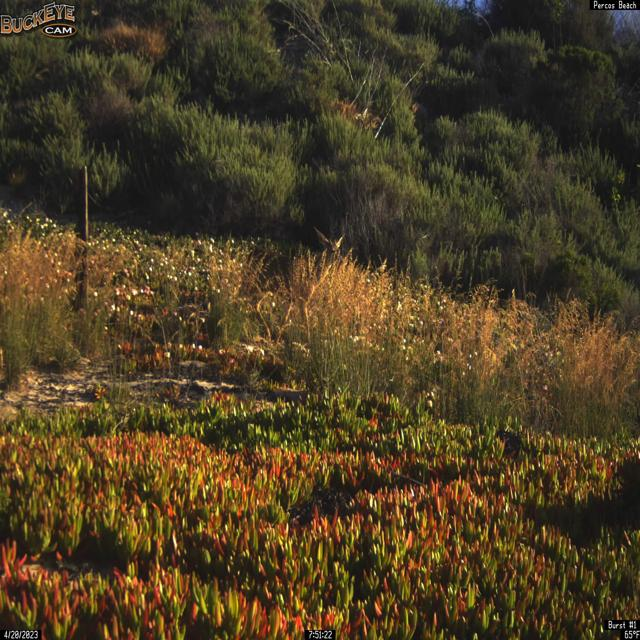deer: (238, 226, 346, 297)
